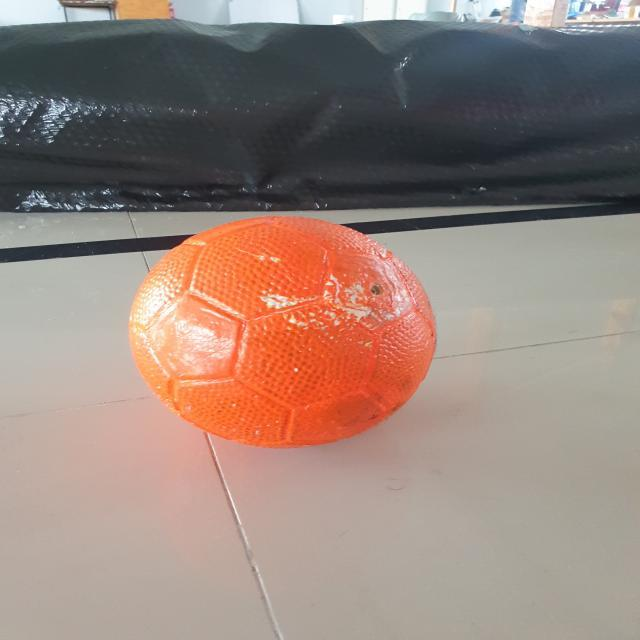bola: (122, 207, 448, 460)
